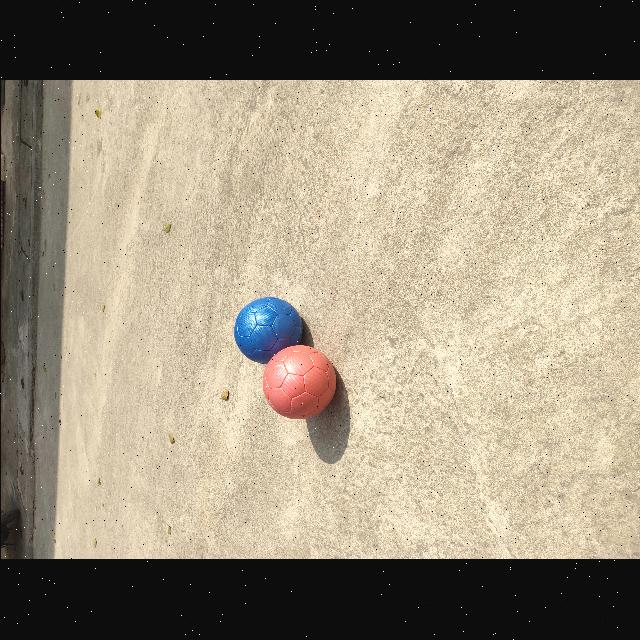B: (233, 297, 302, 365)
R: (262, 346, 336, 420)
